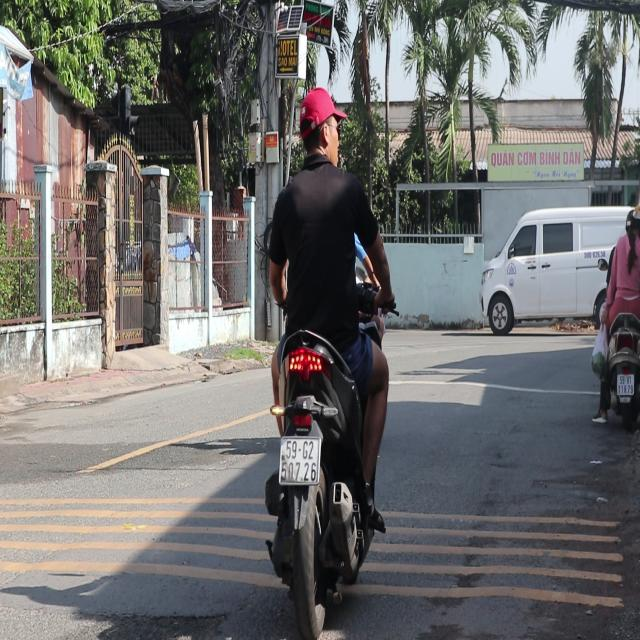helmet: (624, 203, 640, 237)
licenseplate: (258, 79, 397, 629), (590, 200, 639, 428)
motorcyclist: (295, 88, 342, 170)
nohelmet: (278, 439, 319, 484), (617, 374, 634, 394)
